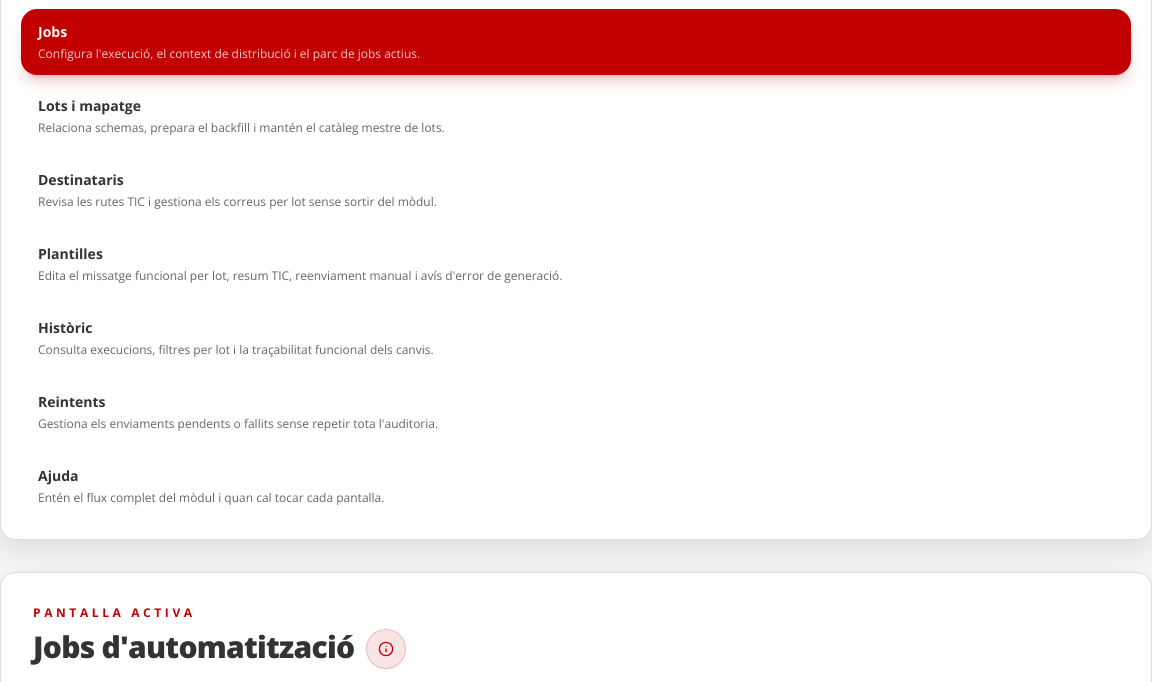
Test: AutomationView formats history timestamps in local time instead of showing raw UTC
(page scrolled)
Step 1. Click the button "Històric" → (65, 328), box [21, 305, 1131, 371]
(page scrolled)
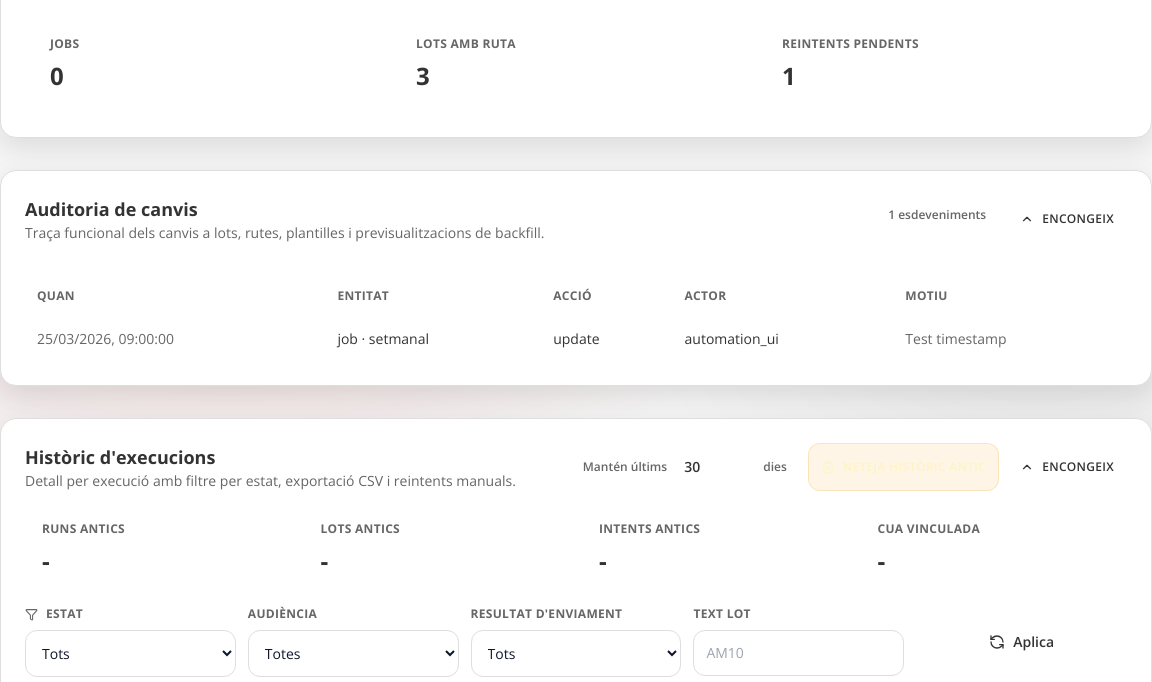
expect the text "25/03/2026, 09:00:00" is shown: met, box [25, 316, 325, 361]
